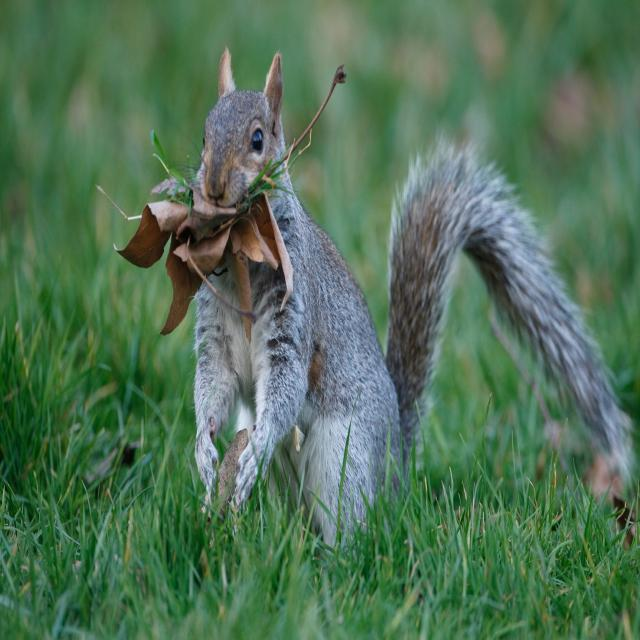Squirrel: (185, 50, 624, 539)
